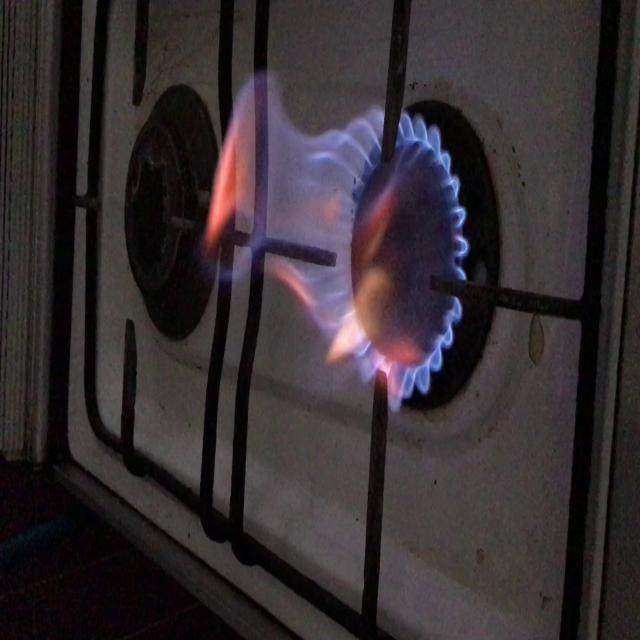Smoke: (205, 76, 486, 394)
